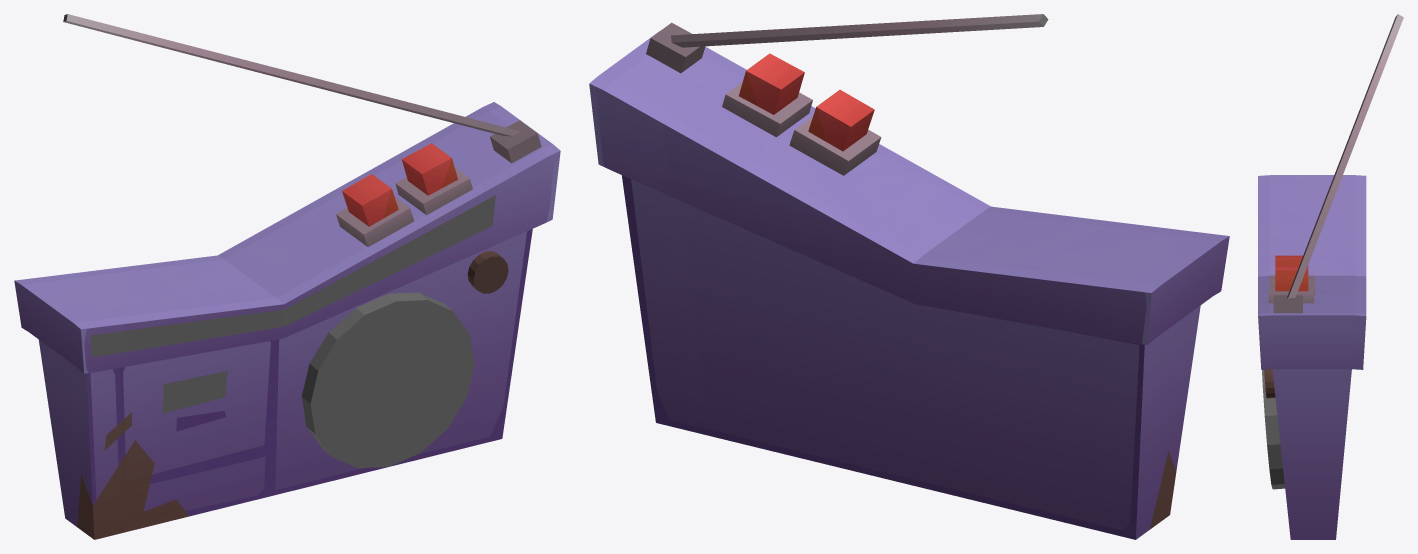
File: SM_Radio.fbx
3 views of the same model, side by side, from view 1: azimuth 30°, elevation 25°; view 2: azimuth 150°, elevation 25°; view 3: azimuth 270°, elevation 25° (orthographic). The views are drawn at different scales.
Parts seen in each view (by area): view 1: Cube.013, Cube.030, Cube.037; view 2: Cube.013, Cube.030, Cube.037; view 3: Cube.013, Cube.030, Cube.037.
Boxes of the visible parts, x1,y1,x2,y2 form: Cube.013: (14,14,560,539); Cube.030: (402,143,457,195); Cube.037: (342,174,398,226); Cube.013: (589,14,1229,539); Cube.030: (739,53,804,114); Cube.037: (808,89,874,151); Cube.013: (1258,14,1403,539); Cube.030: (1275,265,1308,291); Cube.037: (1275,255,1302,265).
Size of the model in its own units: 1.44 by 1.34 by 0.4669.
